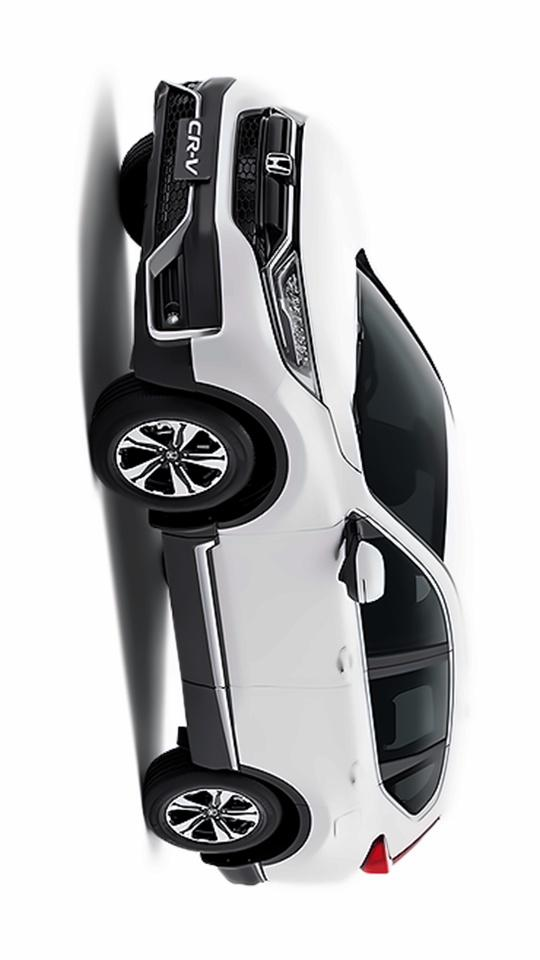Car hood: (295, 107, 369, 468)
Fender - -F-L-: (164, 355, 374, 560)
Fender - -R-L-: (213, 745, 439, 891)
Front bumper: (120, 65, 267, 407)
Headlight - -L-: (265, 230, 322, 404)
Passenger-s door - -F-L-: (157, 502, 471, 694)
Passenger-s door - -R-L-: (160, 649, 476, 791)
Rear bumper: (195, 837, 271, 885)
Rear light - -L-: (360, 835, 390, 879)
Side bumper - -L-: (155, 513, 255, 776)
Side mirror - -L-: (339, 507, 390, 610)
